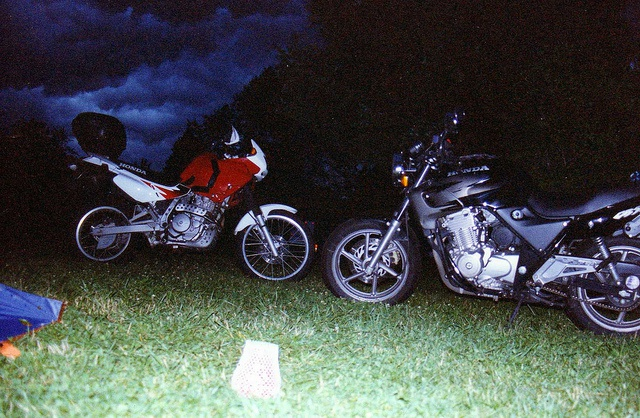non-vehicle: (325, 106, 637, 334), (69, 113, 316, 286)
